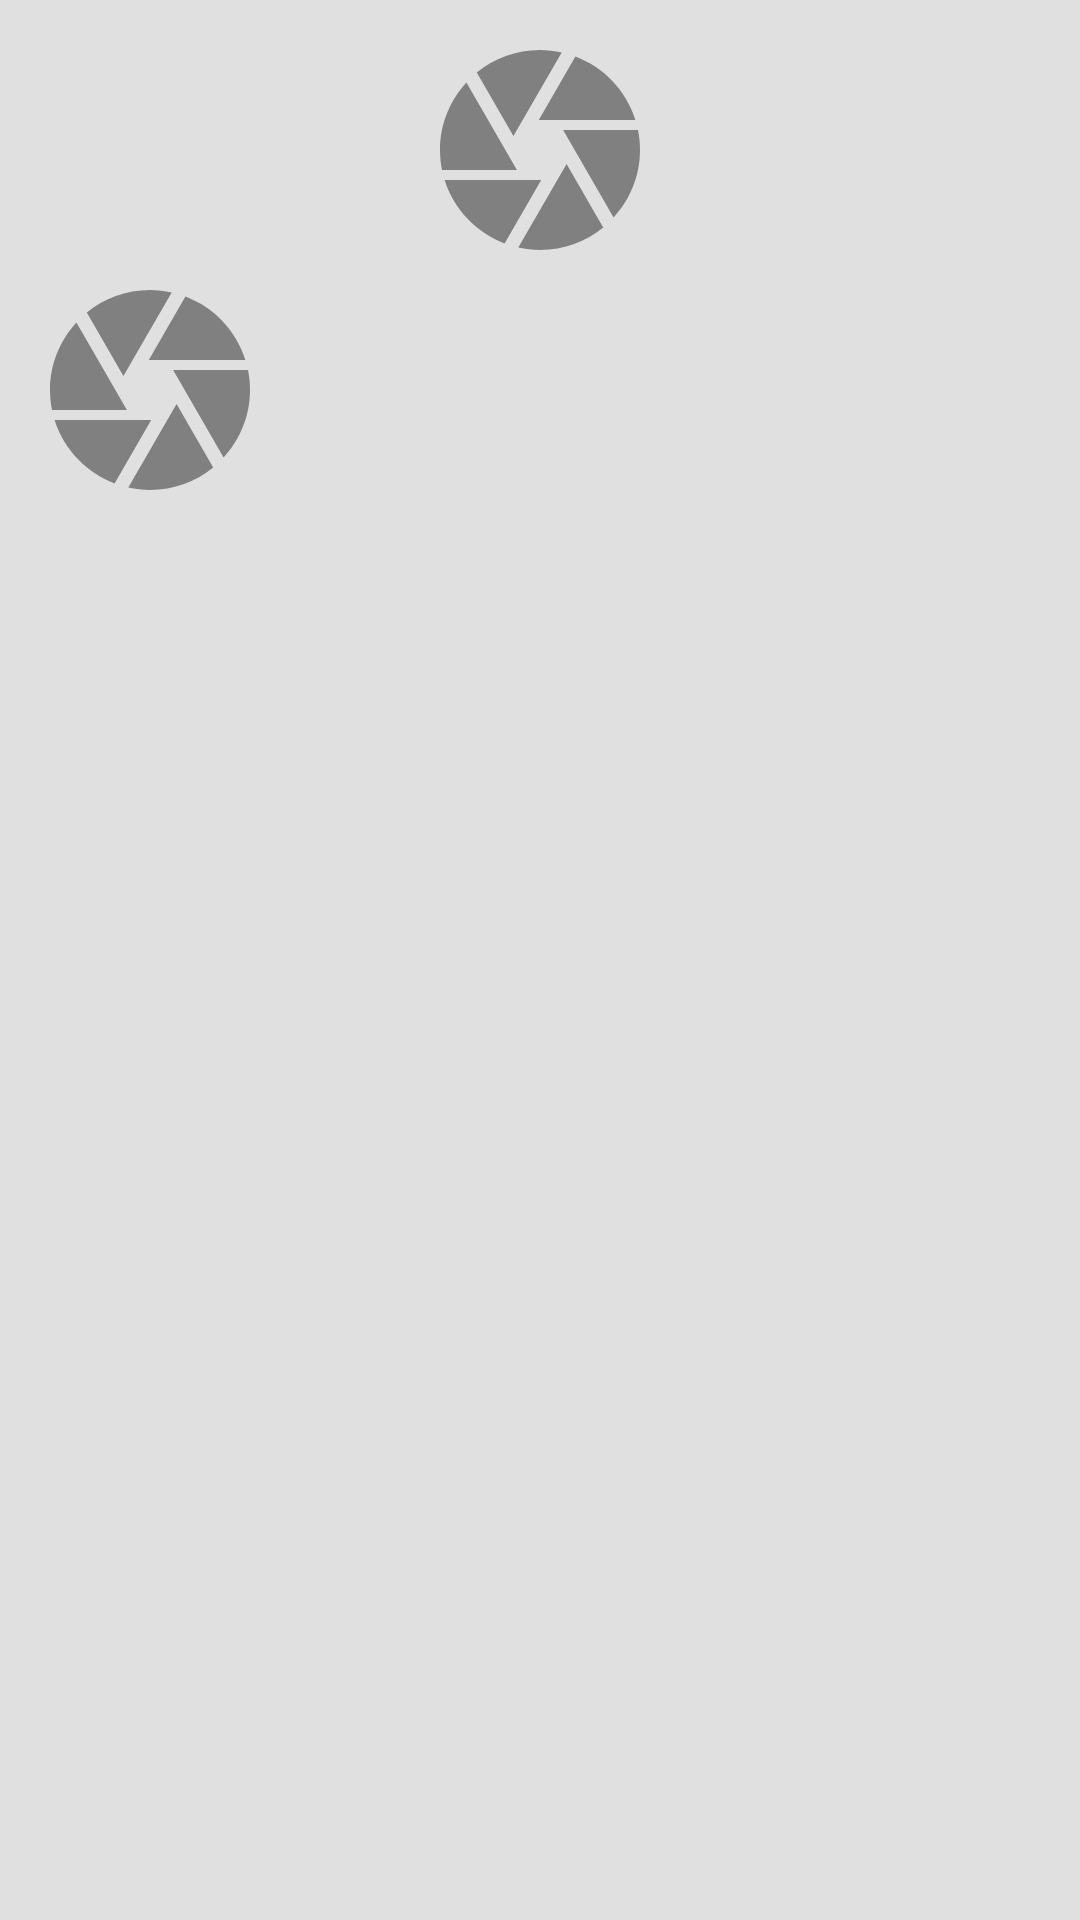

Named icons in this screenshot (1080px×1920px) and their bounding boxes, [x1, y1, x2, y2]:
camera: [440, 50, 640, 250], [50, 290, 250, 490]
